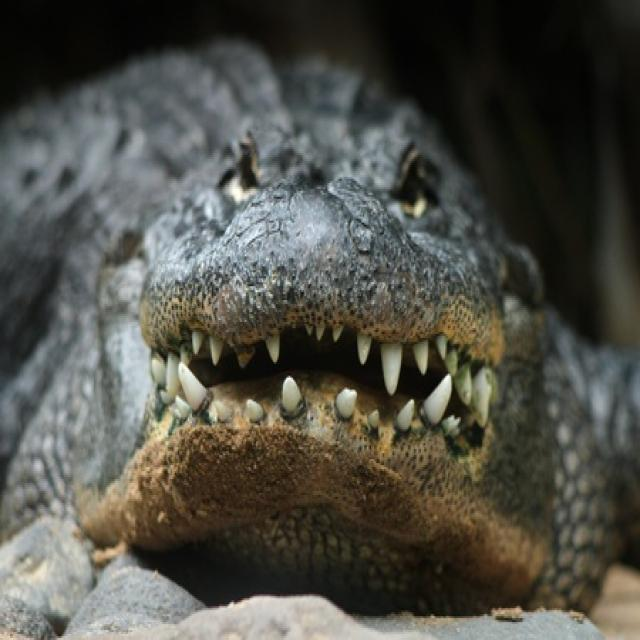Carnivorous: (0, 40, 640, 640)
